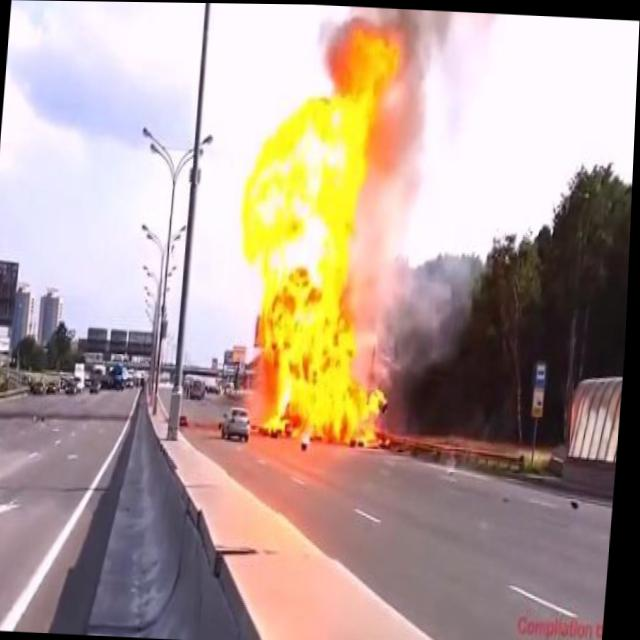fire: (226, 12, 429, 448)
